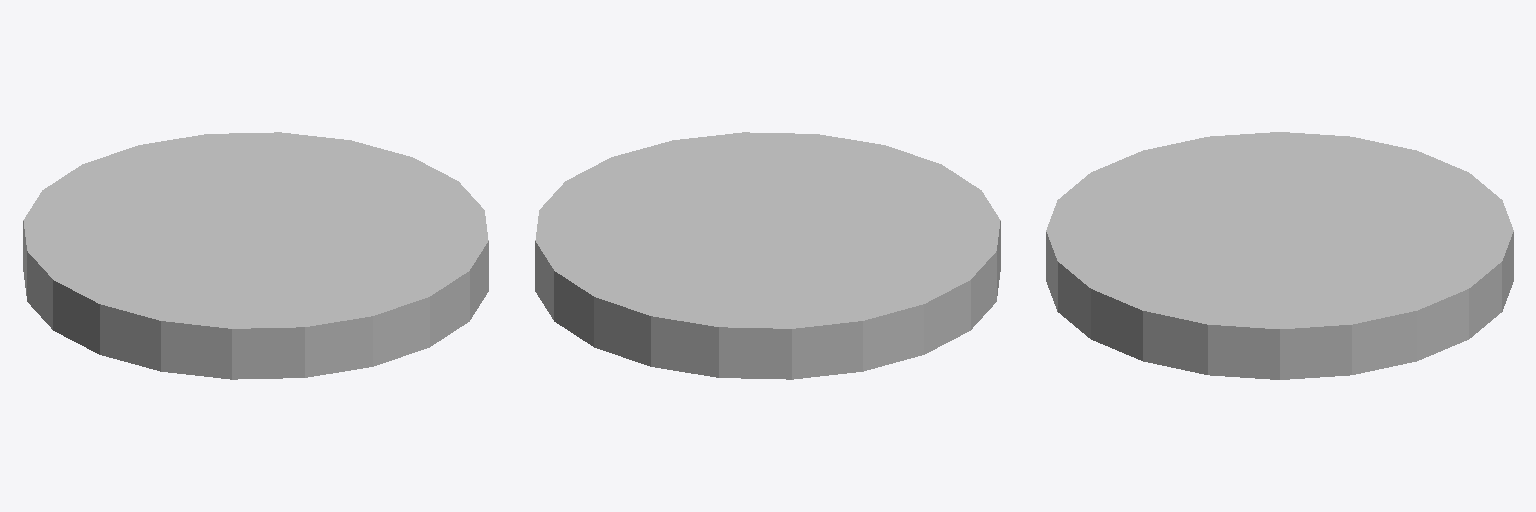
Rendered from CylinderV2.obj.
3 renders of one model, left to right at view 1: azimuth 30°, elevation 25°; view 2: azimuth 150°, elevation 25°; view 3: azimuth 270°, elevation 25°, orthographic.
Visible parts, largest first — view 1: pCylinder1; view 2: pCylinder1; view 3: pCylinder1.
Boxes of the visible parts, <box> form: pCylinder1: <box>23,132,488,379</box>; pCylinder1: <box>535,132,1000,379</box>; pCylinder1: <box>1046,132,1513,379</box>.
Bounding box in the file's own units: 0.9782 × 0.117 × 0.9782.